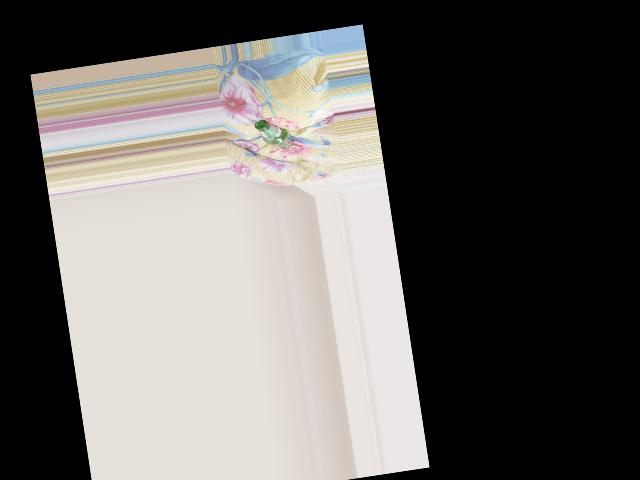beer: (253, 114, 294, 153)
